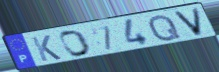4: (124, 17, 150, 48)
7: (91, 25, 113, 51)
K: (29, 34, 64, 63)
O: (59, 29, 93, 58)
Q: (147, 13, 184, 43)
V: (171, 6, 205, 38)
